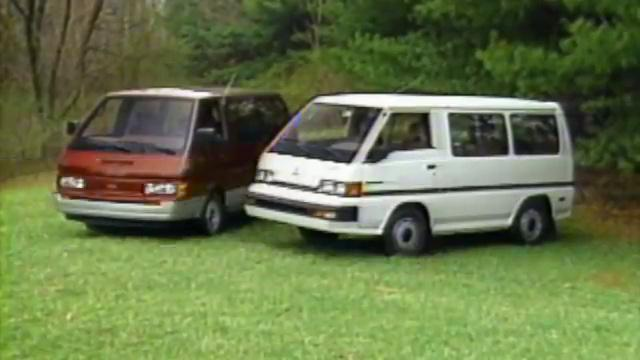Van: (252, 92, 579, 260), (55, 83, 286, 230)
